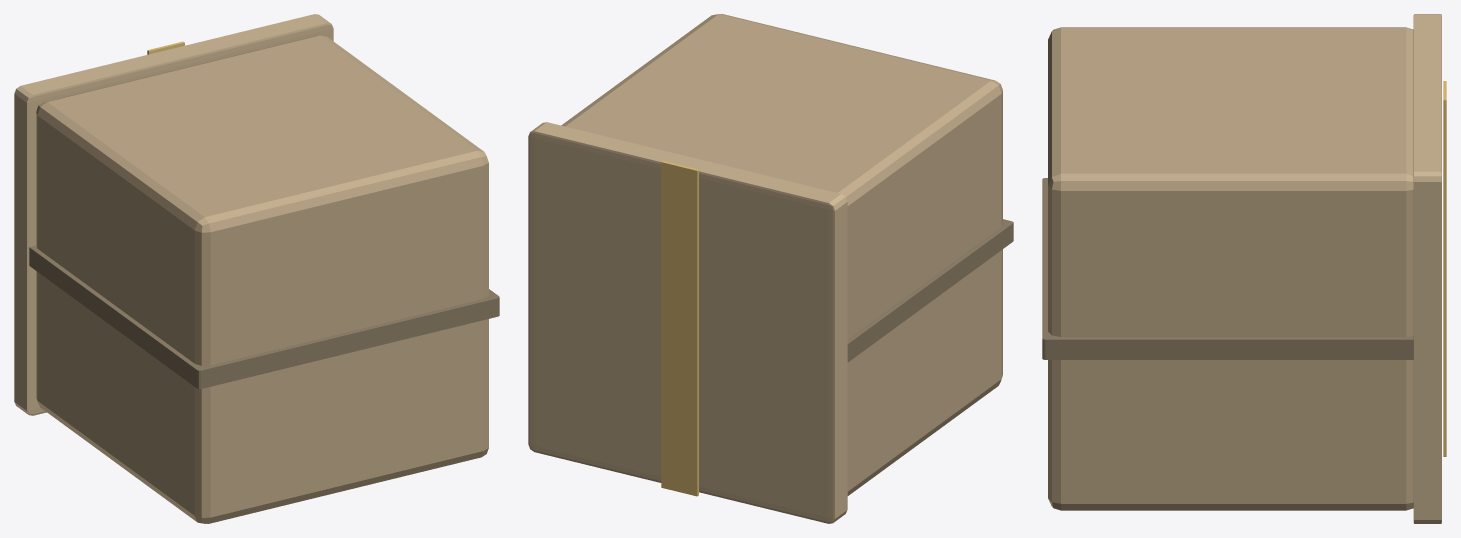
Rendered from crate.glb.
The picture shows the model from 3 angles, left to right: view 1: azimuth 30°, elevation 25°; view 2: azimuth 150°, elevation 25°; view 3: azimuth 270°, elevation 25°; orthographic projection. The views are drawn at different scales.
Parts seen in each view (by area): view 1: crate_body, lid, strap_x; view 2: lid, crate_body, tape_top, strap_x; view 3: crate_body, lid, strap_x, tape_top.
Part boxes in pixels (x1,y1,x2,y2): crate_body: (36, 35, 488, 523); lid: (14, 14, 333, 415); strap_x: (29, 245, 499, 389); lid: (528, 122, 847, 523); crate_body: (561, 14, 1002, 495); tape_top: (661, 161, 698, 496); strap_x: (847, 219, 1013, 362); crate_body: (1048, 27, 1413, 510); lid: (1413, 14, 1441, 523); strap_x: (1042, 178, 1413, 359); tape_top: (1443, 81, 1446, 456).
Size of the model in its own units: 1.36 by 1.38 by 1.42.
